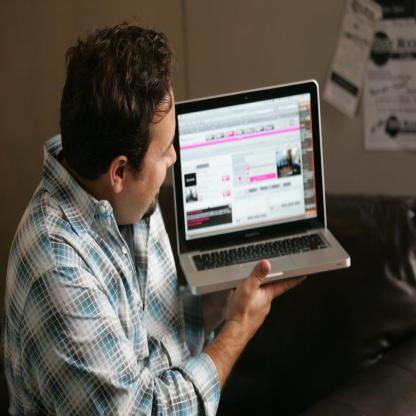board: (169, 78, 350, 308)
